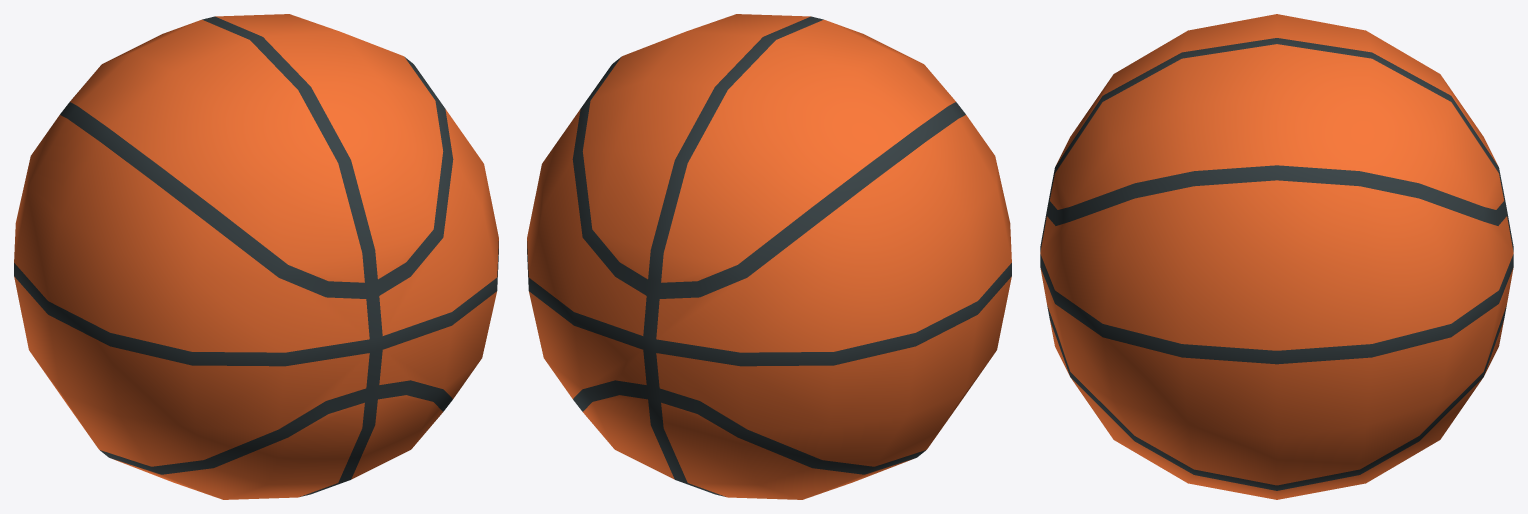
File: Basketball_01.fbx
3 renders of one model, left to right at view 1: azimuth 30°, elevation 25°; view 2: azimuth 150°, elevation 25°; view 3: azimuth 270°, elevation 25°, orthographic.
Visible parts, largest first — view 1: Basketball_01; view 2: Basketball_01; view 3: Basketball_01.
Boxes of the visible parts, bbox=[...] form: Basketball_01: bbox=[14, 14, 498, 499]; Basketball_01: bbox=[527, 14, 1011, 499]; Basketball_01: bbox=[1040, 14, 1513, 499].
Size of the model in its own units: 0.3259 by 0.3265 by 0.3242.
